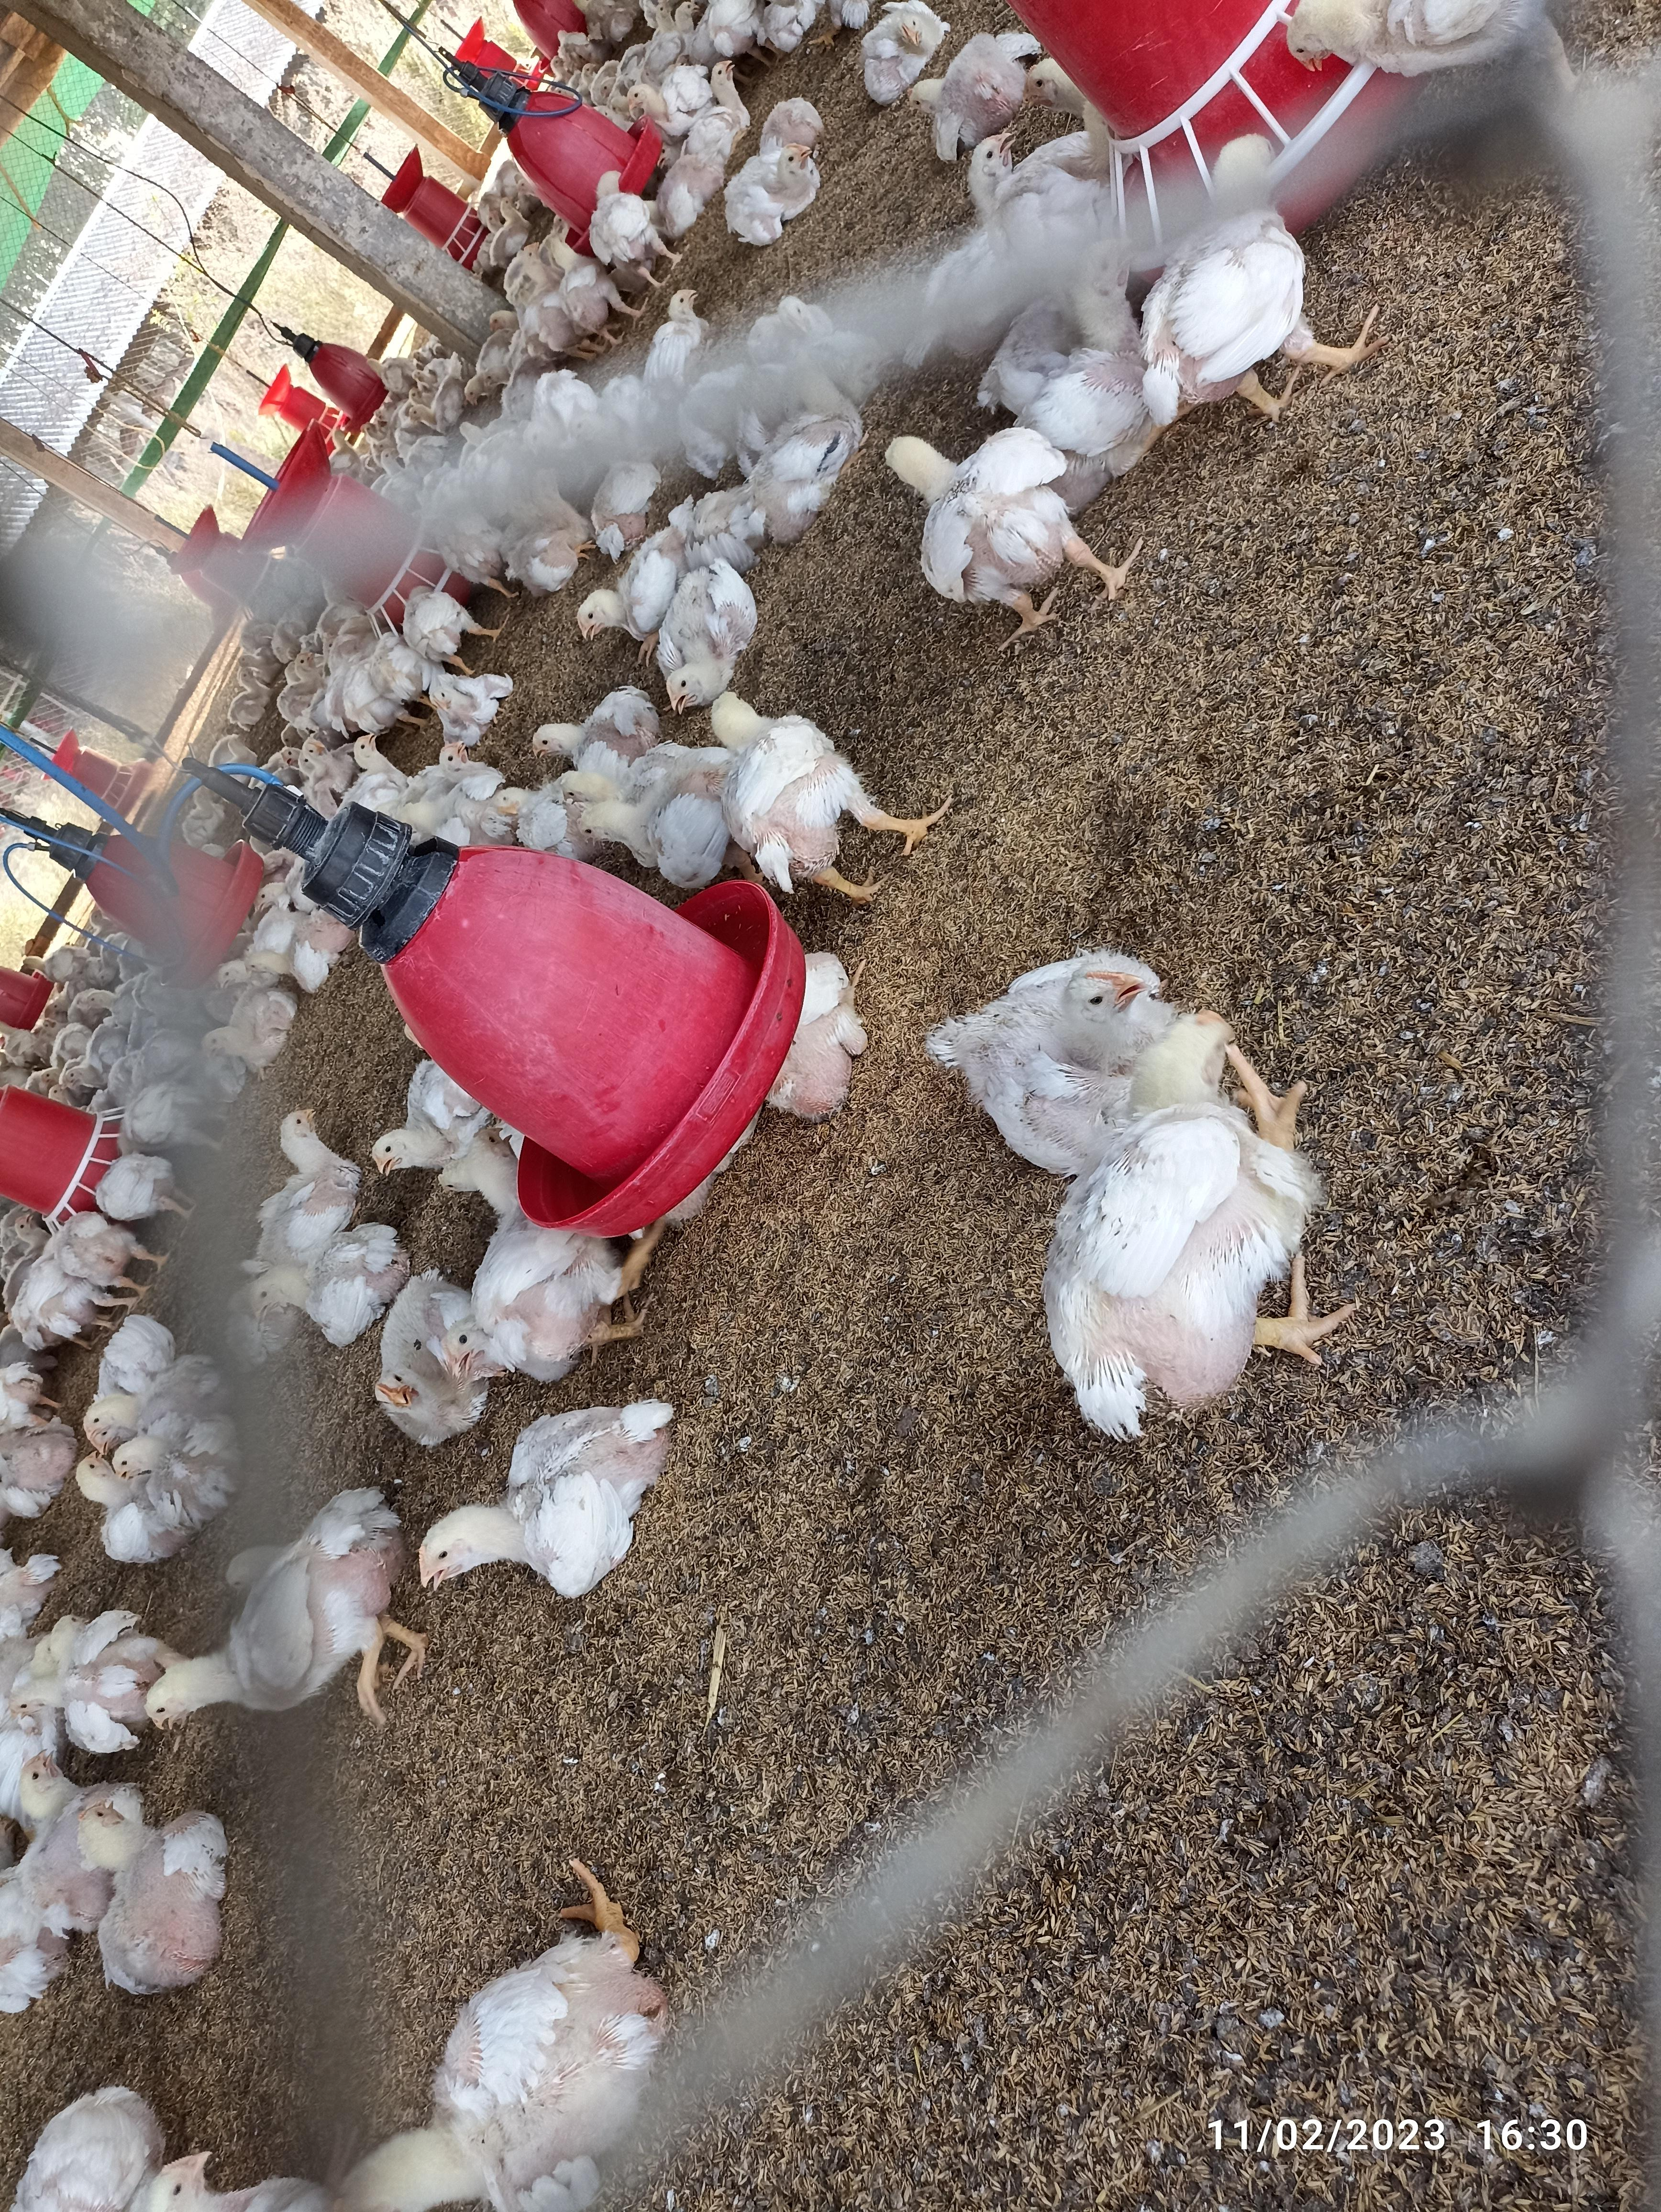Pollos: (930, 940, 1223, 1116), (414, 1427, 646, 1601), (869, 419, 1082, 579), (684, 698, 883, 867), (77, 1790, 236, 1976), (70, 1355, 218, 1514), (262, 1099, 356, 1272), (576, 516, 707, 637)
